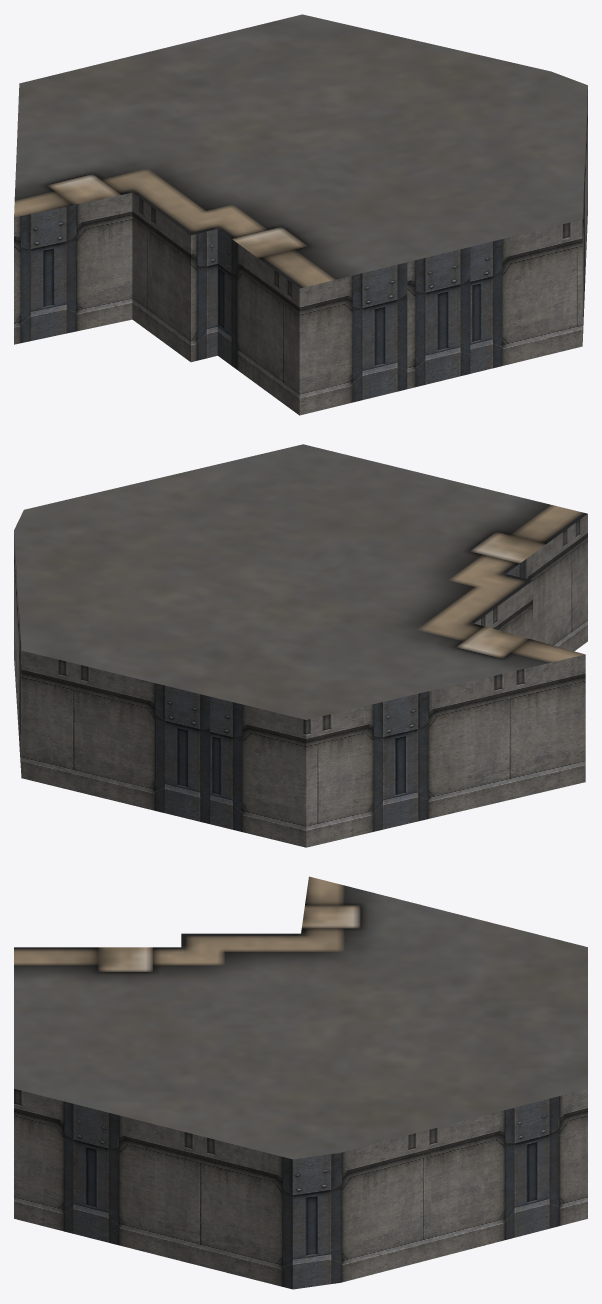
The model's file is building_heavy_66.glb.
3 views of the same model, one above another, from view 1: azimuth 30°, elevation 25°; view 2: azimuth 150°, elevation 25°; view 3: azimuth 270°, elevation 25° (orthographic). The views are drawn at different scales.
Visible parts, largest first — view 1: buildings/saxarba/building_heavy/building_heavy_66; view 2: buildings/saxarba/building_heavy/building_heavy_66; view 3: buildings/saxarba/building_heavy/building_heavy_66.
Part boxes in pixels (left/top/right/bottom): buildings/saxarba/building_heavy/building_heavy_66: left=14, top=14, right=587, bottom=415; buildings/saxarba/building_heavy/building_heavy_66: left=14, top=444, right=587, bottom=847; buildings/saxarba/building_heavy/building_heavy_66: left=14, top=876, right=587, bottom=1289.
Bounding box in the file's own units: 84 × 18 × 72.
